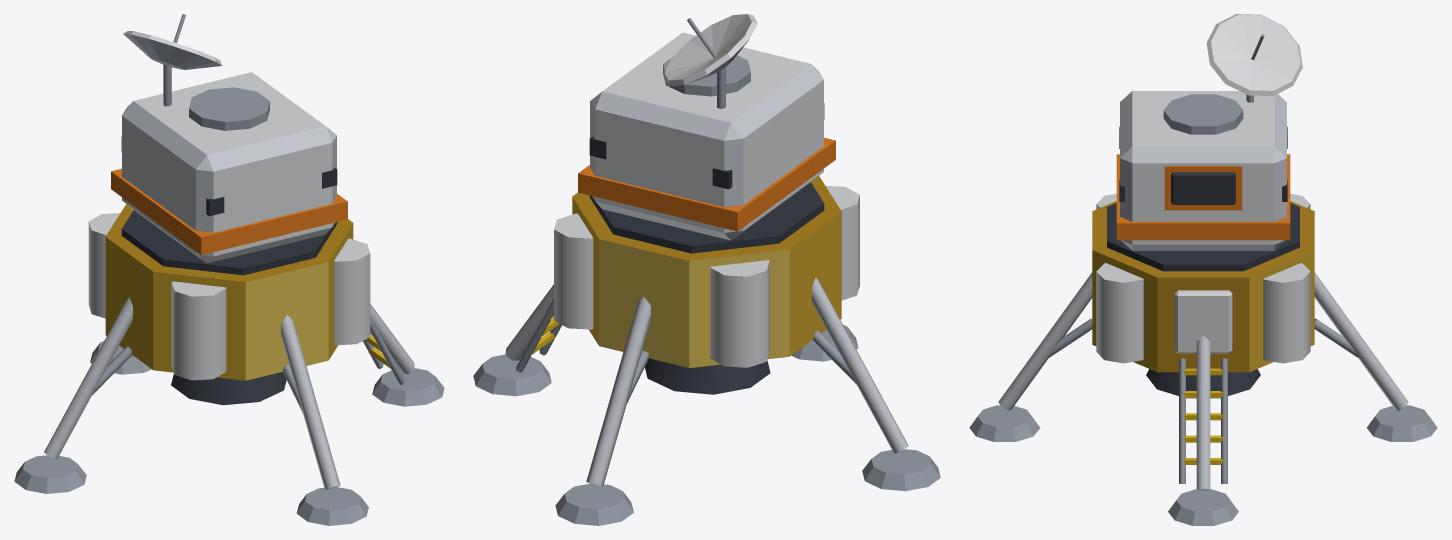
Rendered from lander.glb.
The picture shows the model from 3 angles, left to right: view 1: azimuth 30°, elevation 25°; view 2: azimuth 150°, elevation 25°; view 3: azimuth 270°, elevation 25°; orthographic projection. The views are drawn at different scales.
Parts seen in each view (by area): view 1: Body; view 2: Body; view 3: Body.
Boxes of the visible parts, <box> form: Body: <box>14,14,444,525</box>; Body: <box>473,14,940,525</box>; Body: <box>969,14,1437,525</box>.
Bounding box in the file's own units: 4.45 × 4.08 × 4.48.
